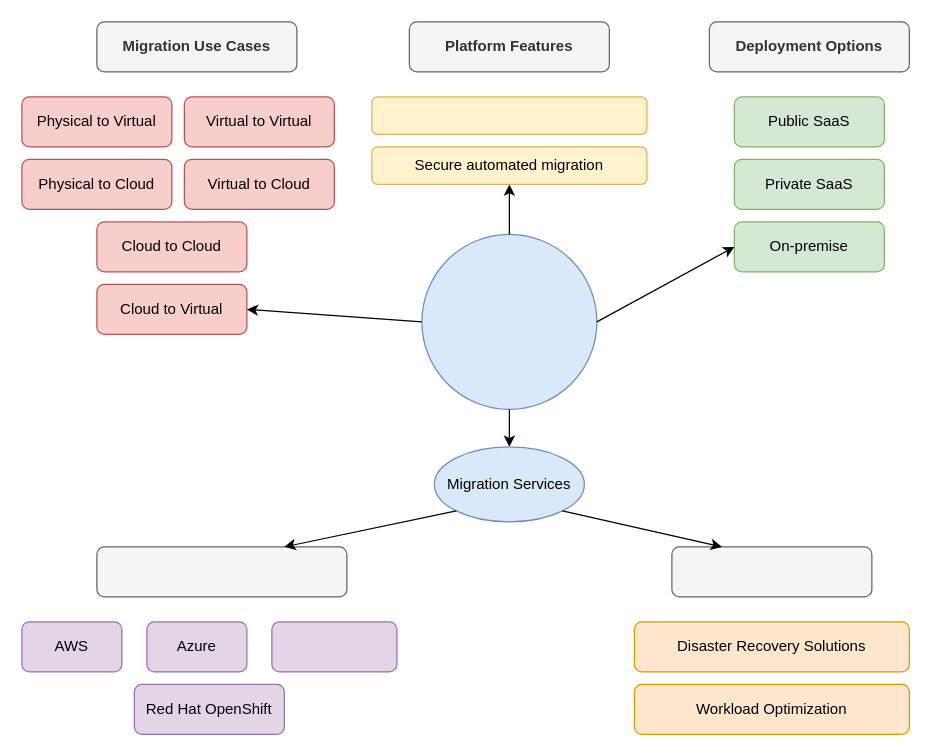
This 931x756 diagram has some shape labels left out. The shapes that lost their labels are listed below. From the top down, each one's centre as x and y in pixels, then its label:
At point (509, 115): "Non-intrusive on live workloads".
At point (509, 321): "RiverMeadow Cloud Migration Platform".
At point (221, 571): "Supported Cloud Platforms".
At point (771, 571): "Additional Services".
At point (334, 646): "Google Cloud".
